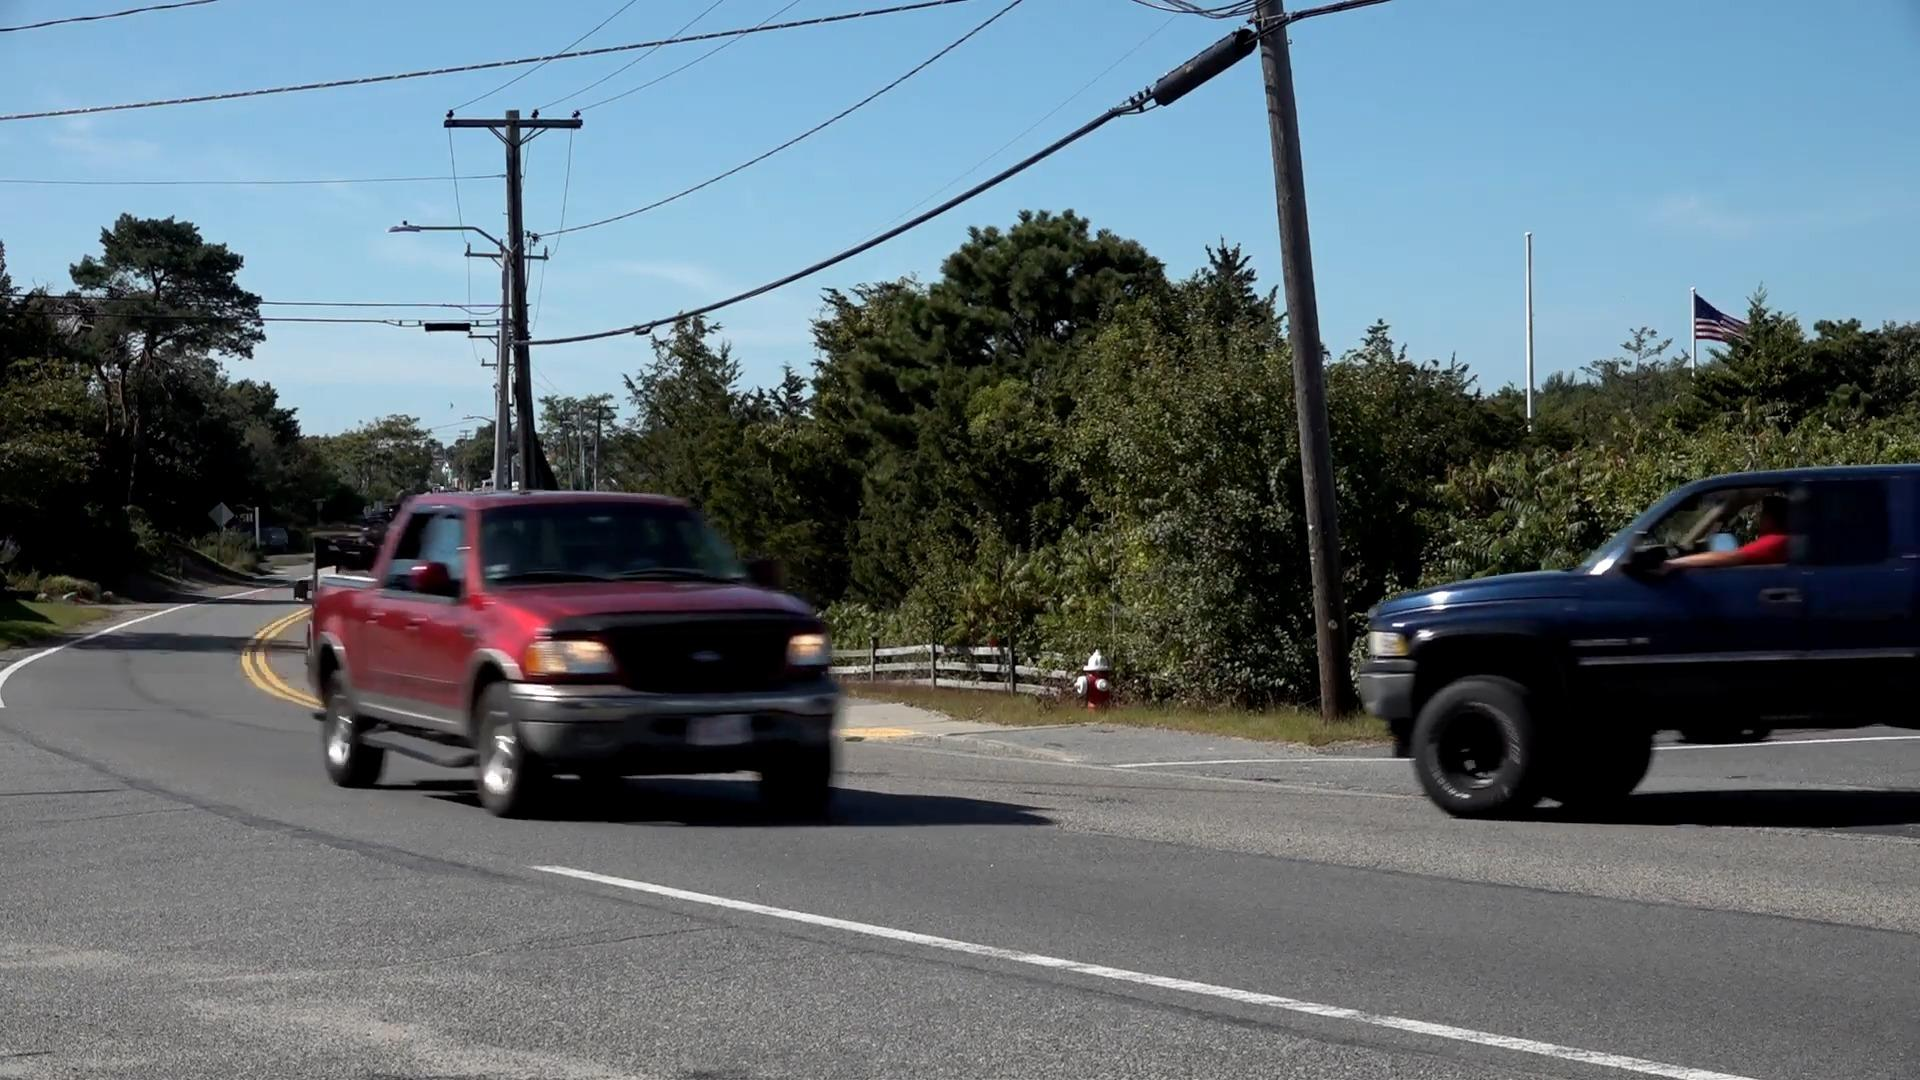pickup: (1354, 462, 1920, 825), (301, 485, 845, 828)
